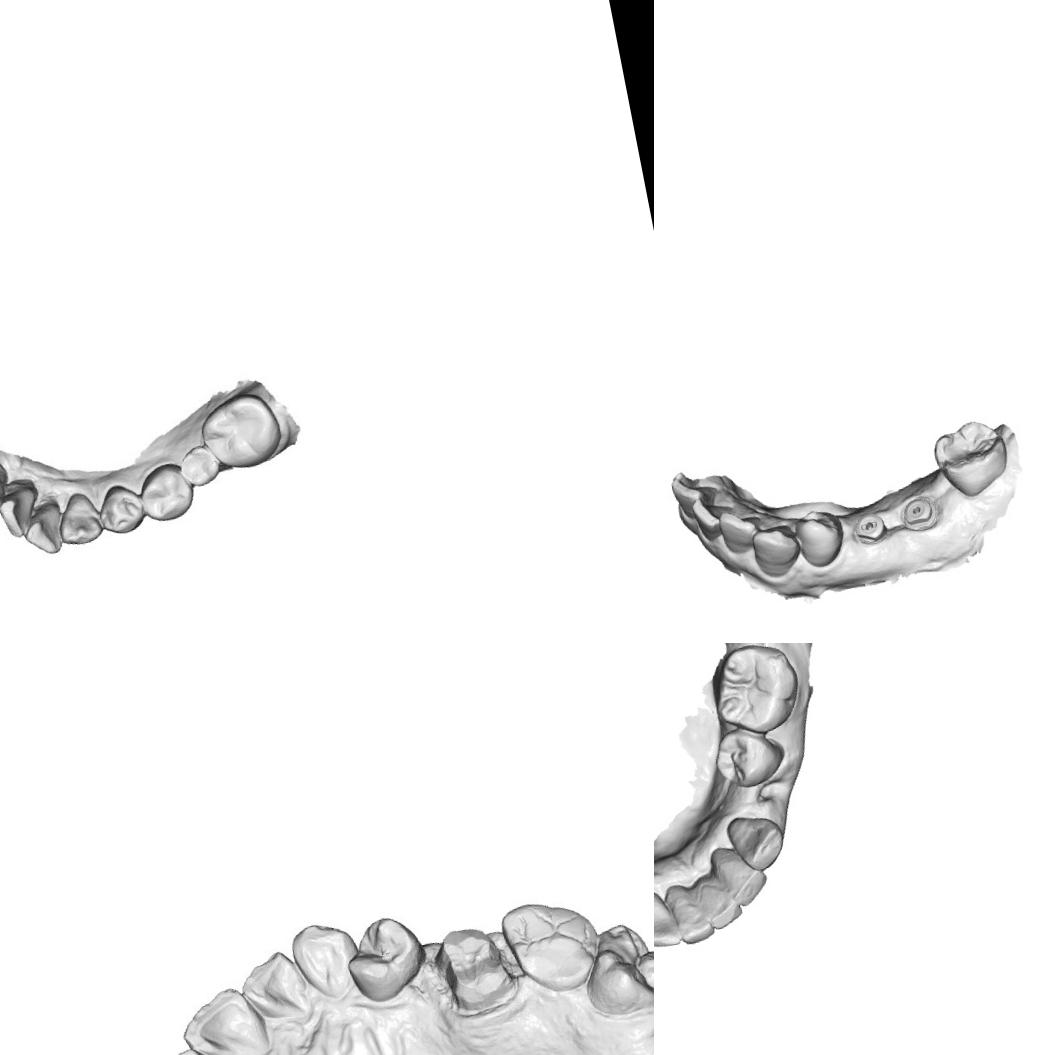canine: (286, 913, 364, 1007), (724, 808, 791, 876), (50, 485, 106, 551), (746, 519, 804, 582)
crown: (426, 916, 518, 1022)
implant: (896, 490, 941, 536)
implant_minus: (847, 507, 890, 548)
incisor: (173, 977, 277, 1055), (234, 942, 318, 1030), (708, 836, 774, 910), (663, 870, 717, 947), (17, 494, 70, 560), (693, 869, 743, 934), (668, 470, 723, 522), (716, 504, 768, 558), (690, 491, 740, 543), (0, 481, 41, 539), (654, 877, 684, 951), (0, 458, 15, 522)
molar: (496, 887, 604, 1004), (702, 643, 807, 742), (573, 912, 654, 1027), (196, 387, 288, 476), (926, 413, 1015, 504), (174, 438, 224, 492)
premolar: (338, 908, 432, 1008), (708, 719, 790, 794), (136, 460, 198, 528), (790, 503, 850, 572), (93, 478, 150, 538)
